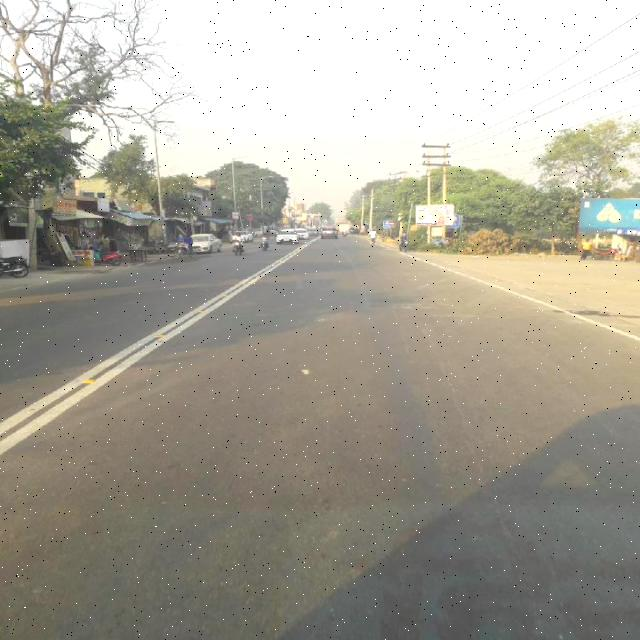D00: (415, 309, 517, 542)
